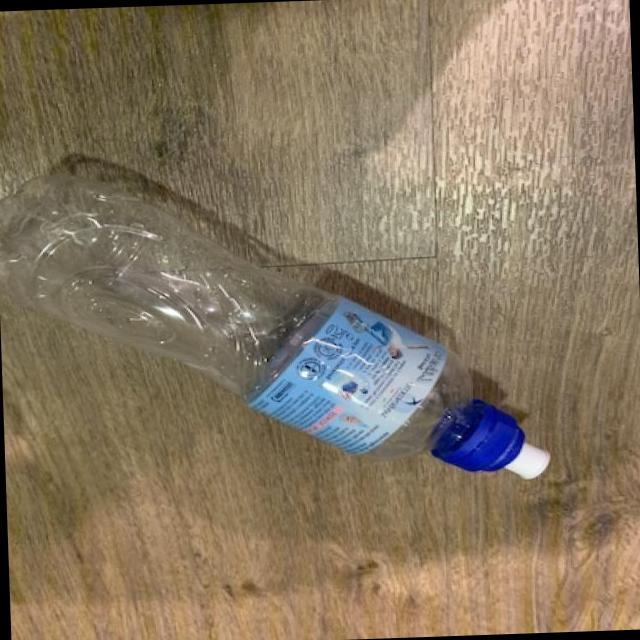plastic_bottle: (0, 152, 554, 497)
